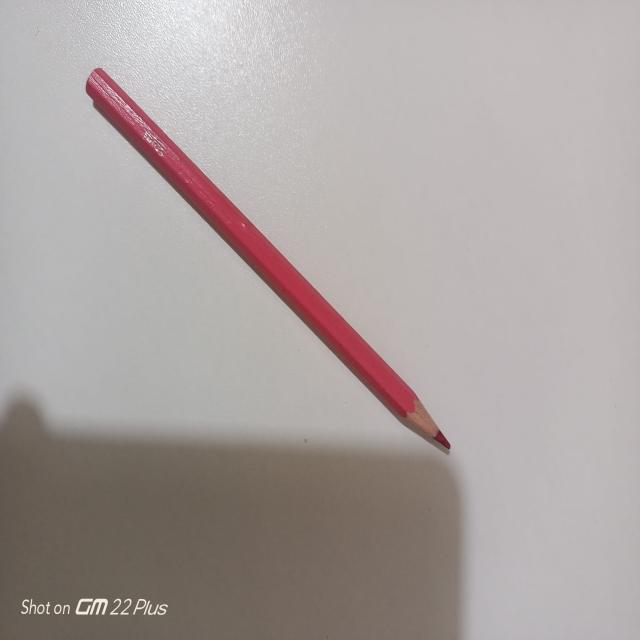pencil: (82, 60, 462, 479)
